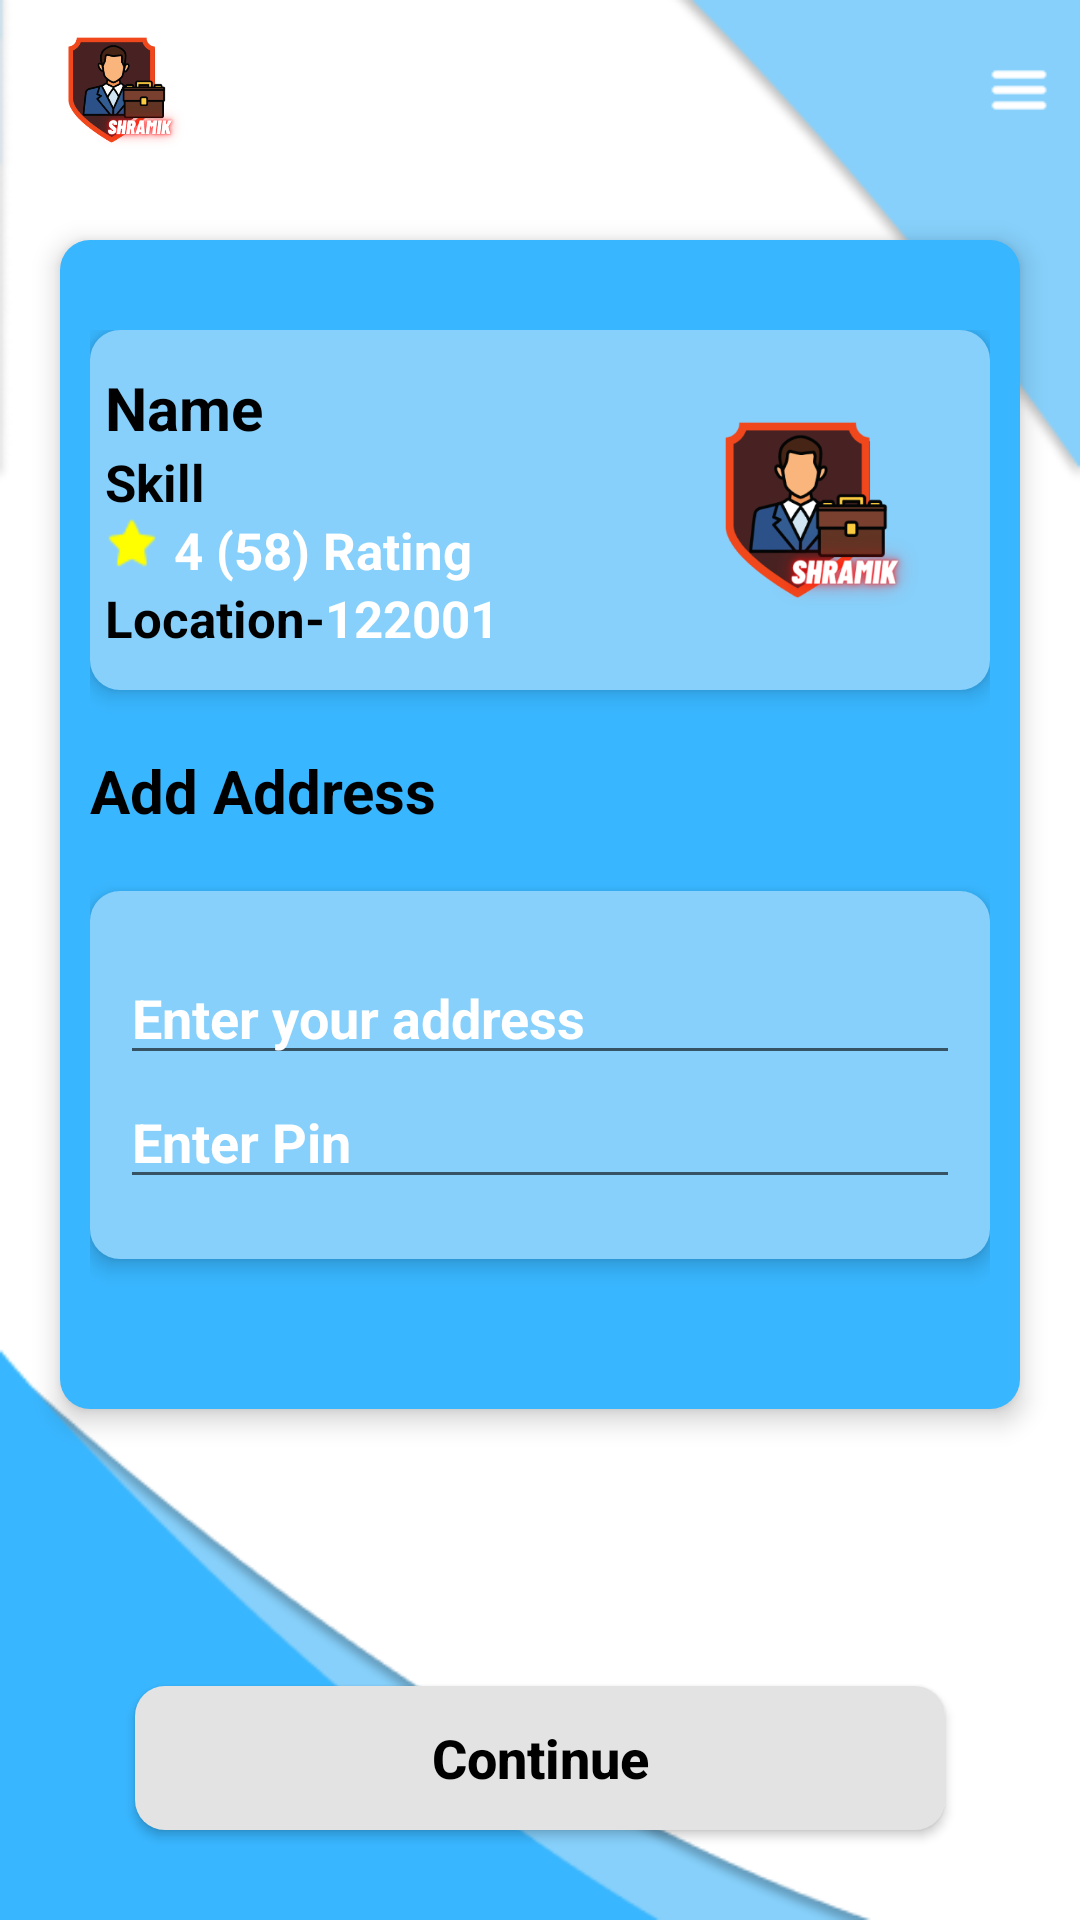

Icon bounding boxes for this 1080*1920 phone screenshot, format (x1, y1, x2, y2):
menu: (991, 70, 1047, 110)
star: (108, 519, 156, 567)
